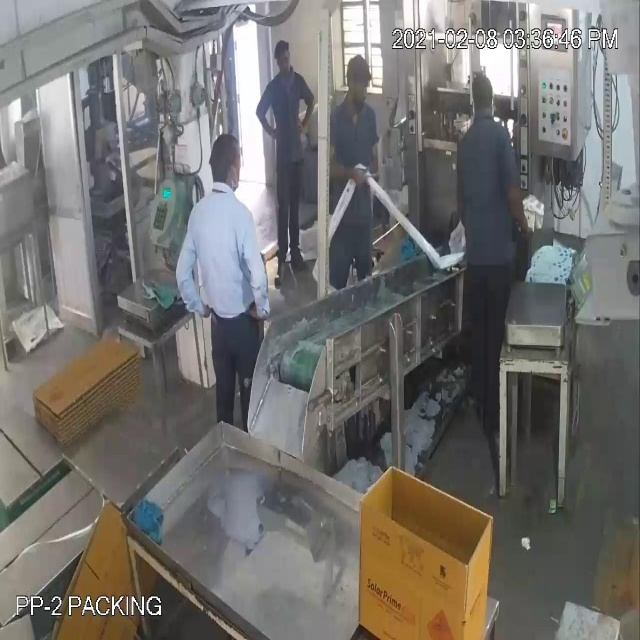Sin_guantes: (236, 233, 276, 330), (171, 233, 210, 320), (252, 87, 286, 148), (325, 137, 364, 187), (298, 76, 320, 133)
